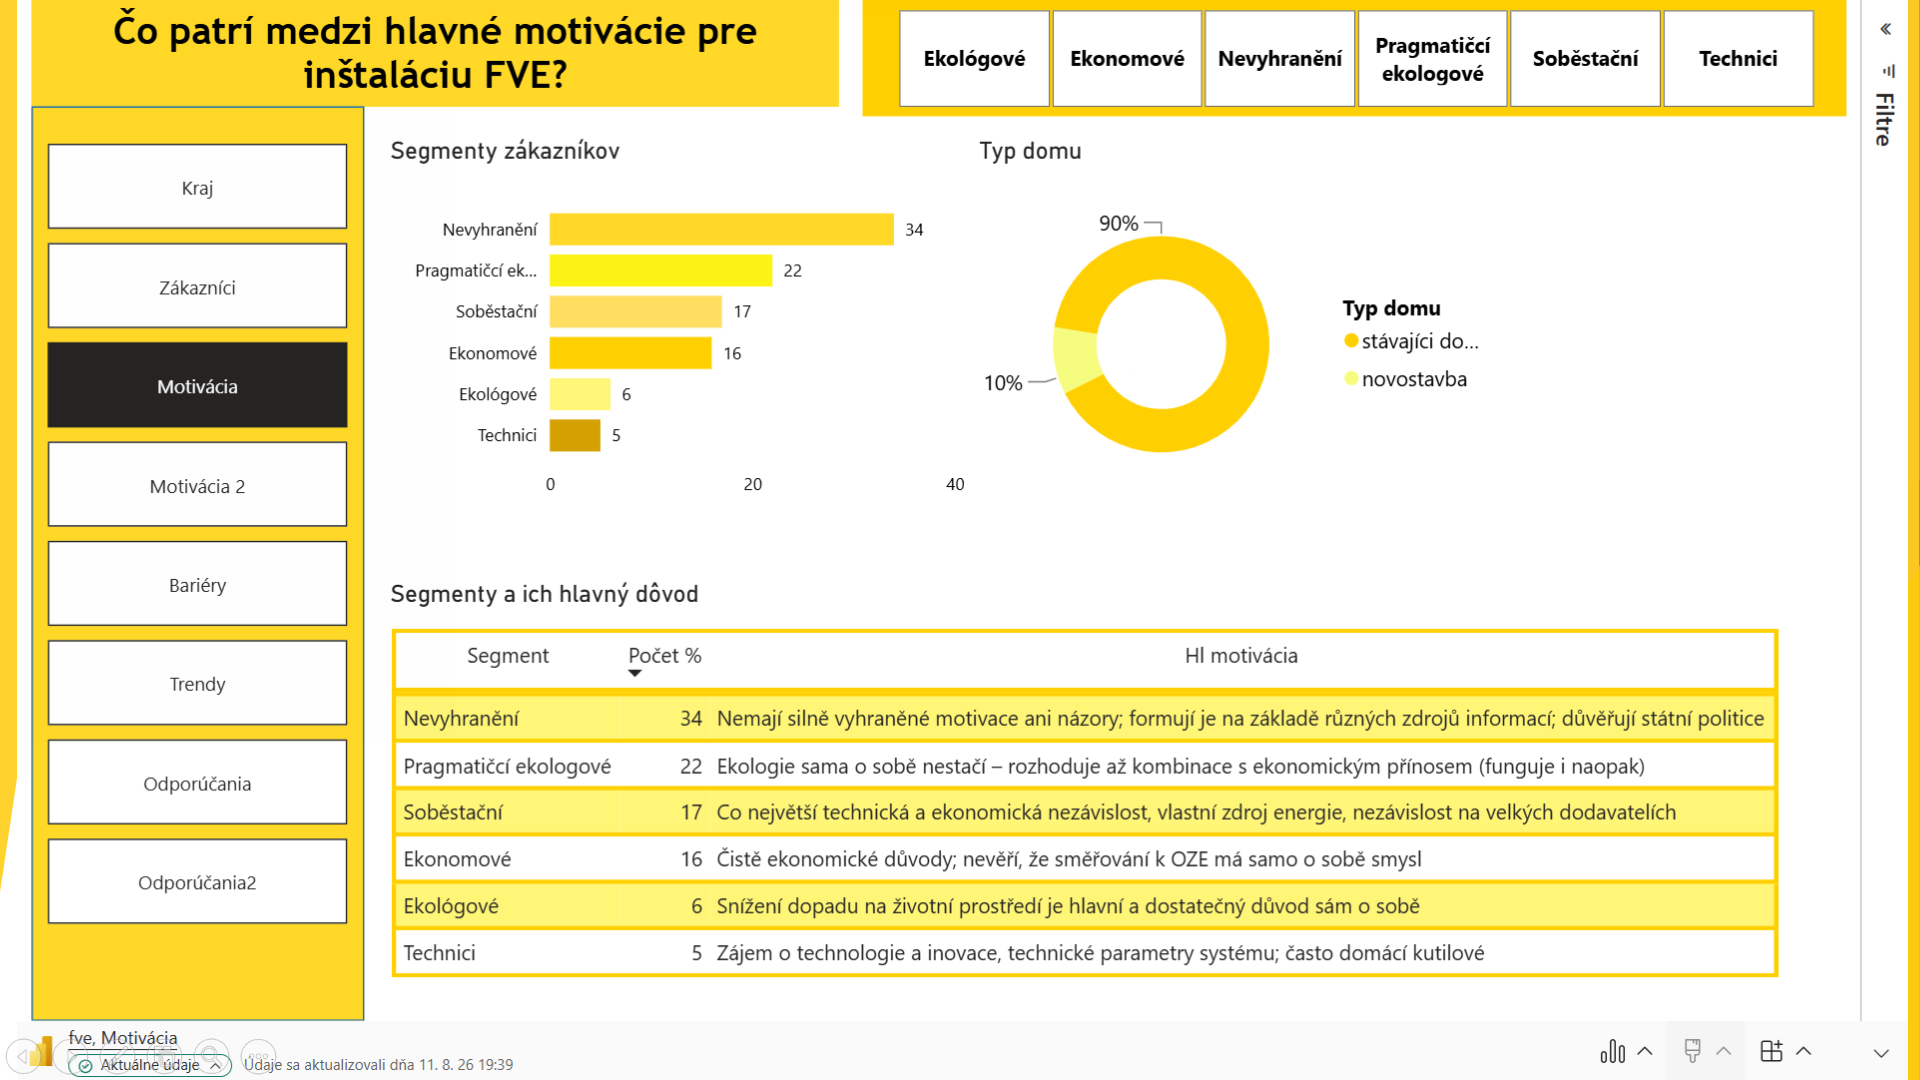

This screenshot's page, from the dashboard's own definition file:
{"tool":"powerbi","page":{"name":"Motivácia","canvas":[1280,720],"ordinal":2},"visuals":[{"type":"textbox","box":[0,0,569.5,75.5],"z":0},{"type":"shape","box":[0,75.5,234.6,644.9],"z":1000},{"type":"donutChart","title":"Typ domu","fields":{"Category":["Typ domu.Typ domu"],"Y":["Sum(Typ domu.Počet %)"]},"box":[662.8,96.1,377.4,263.5],"z":6000},{"type":"tableEx","title":"Segmenty a ich hlavný dôvod","fields":{"Values":["ZakazniciFVE.Zákazníci","ZakazniciFVE.Počet %","ZakazniciFVE.Hl motivace"]},"box":[248.4,408.9,1015.4,289.5],"z":7000},{"type":"clusteredBarChart","title":"Segmenty zákazníkov","fields":{"Category":["ZakazniciFVE.Zákazníci"],"Y":["Sum(ZakazniciFVE.Počet %)"]},"box":[248.4,96.1,414.4,263.5],"z":8000},{"type":"slicer","fields":{"Values":["ZakazniciFVE.Zákazníci"]},"box":[585.9,0,694.3,82.3],"z":9000},{"type":"pageNavigator","box":[11.4,101.4,211.4,551.4],"z":9001}]}

Visuals, with their boxes on the page's 1280x720 design canvas (x1, y1, x2, y2). These are canvas units, not pixel positions in the 1920x1080 screenshot, which may show the page scaled, cropped or inside an application window:
textbox: [0,0,570,76]
shape: [0,76,235,720]
"Typ domu" donutChart: [663,96,1040,360]
"Segmenty a ich hlavný dôvod" tableEx: [248,409,1264,698]
"Segmenty zákazníkov" clusteredBarChart: [248,96,663,360]
slicer - ZakazniciFVE.Zákazníci: [586,0,1280,82]
pageNavigator: [11,101,223,653]
